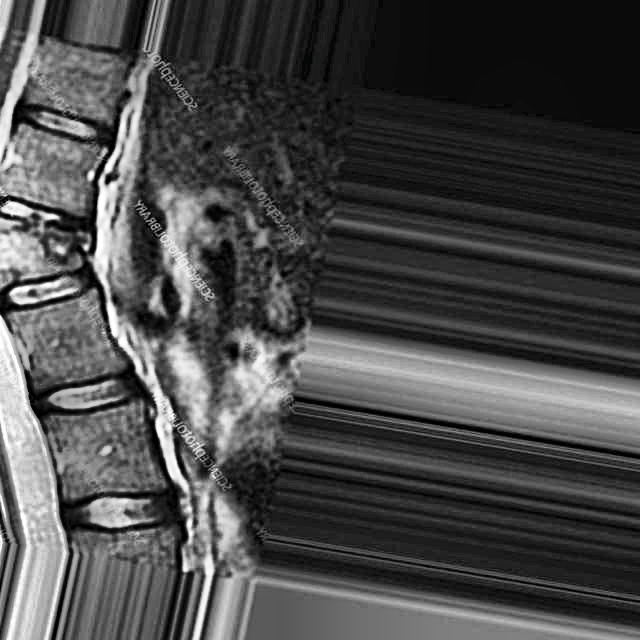Greenstick: (0, 195, 103, 317)
